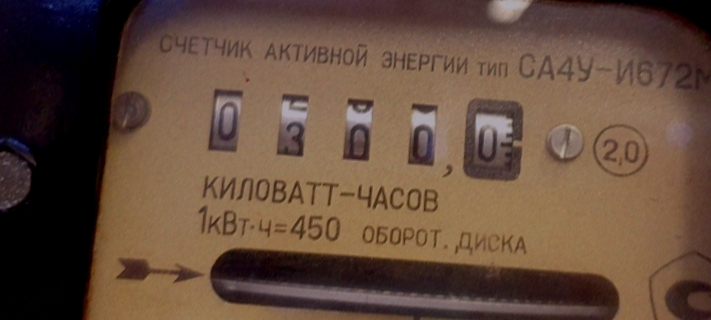0: (409, 122, 437, 167), (215, 98, 241, 145), (474, 122, 501, 166), (346, 121, 371, 163)
3: (281, 118, 306, 158)
screen: (187, 65, 546, 200)
